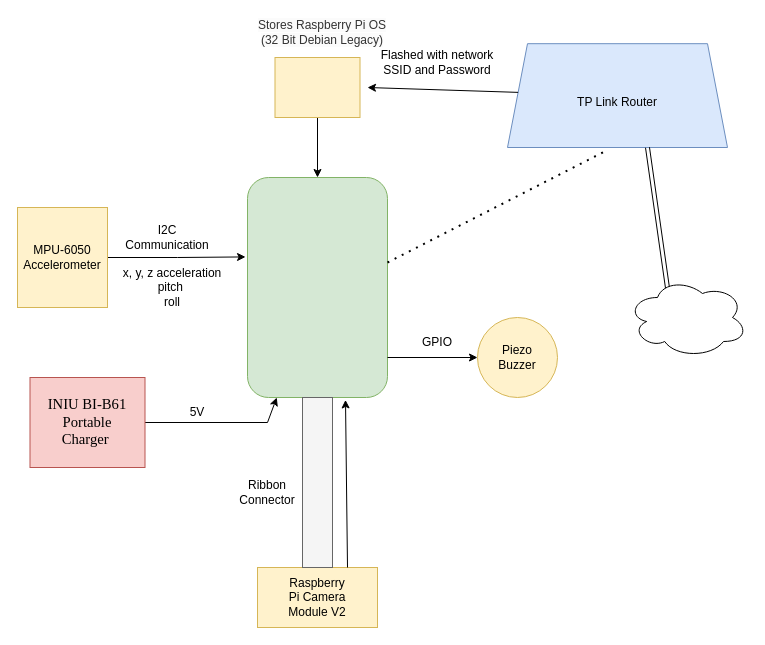
The diagram is 765 pixels wide and 645 high, and some of its shapes have lost their labels. The centre of each missing label's shape, as x and y in pixels:
32 GB SD Card: point (317, 87)
BU Wifi: point (687, 317)
Raspberry Pi Zero 2 W: point (317, 287)
